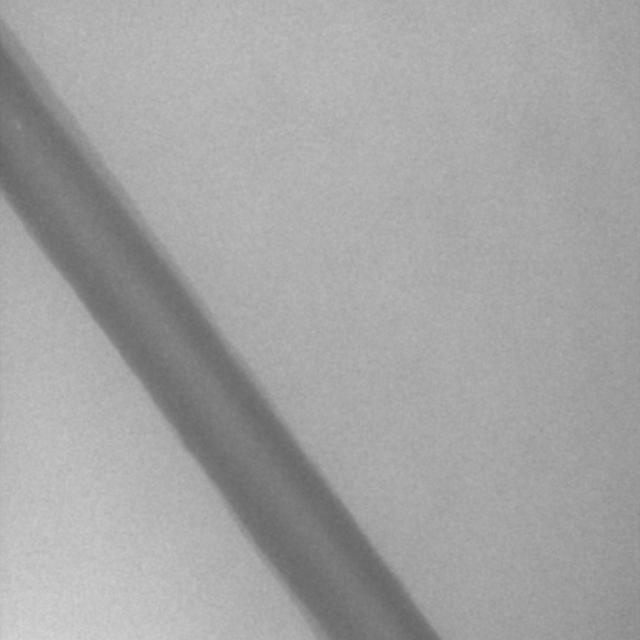air hole: (11, 114, 25, 133)
